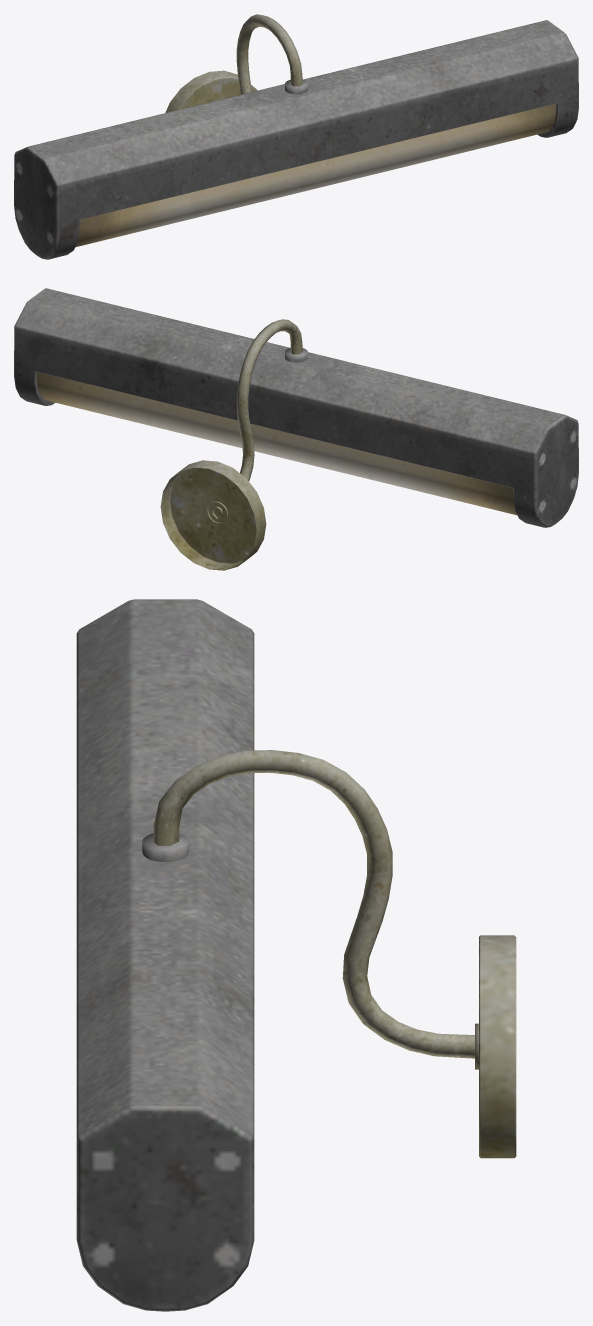
Rendered from sm35_038_bracketlight02a.fbx.
3 renders of one model, top to bottom at view 1: azimuth 30°, elevation 25°; view 2: azimuth 150°, elevation 25°; view 3: azimuth 270°, elevation 25°, orthographic. The views are drawn at different scales.
Visible parts, largest first — view 1: LOD_1_Group_0_Sub_1__sm35_038_BracketLight02A_A_Mat, LOD_1_Group_1_Sub_1__sm35_038_BracketLight02A_B_Mat__Emissiv; view 2: LOD_1_Group_0_Sub_1__sm35_038_BracketLight02A_A_Mat, LOD_1_Group_1_Sub_1__sm35_038_BracketLight02A_B_Mat__Emissiv; view 3: LOD_1_Group_0_Sub_1__sm35_038_BracketLight02A_A_Mat.
Boxes of the visible parts, x1,y1,x2,y2 form: LOD_1_Group_0_Sub_1__sm35_038_BracketLight02A_A_Mat: (14, 14, 578, 259); LOD_1_Group_1_Sub_1__sm35_038_BracketLight02A_B_Mat__Emissiv: (75, 103, 555, 247); LOD_1_Group_0_Sub_1__sm35_038_BracketLight02A_A_Mat: (14, 288, 578, 570); LOD_1_Group_1_Sub_1__sm35_038_BracketLight02A_B_Mat__Emissiv: (37, 372, 516, 515); LOD_1_Group_0_Sub_1__sm35_038_BracketLight02A_A_Mat: (76, 599, 516, 1311).
Bounding box in the file's own units: 0.878 × 0.3195 × 0.3195.
